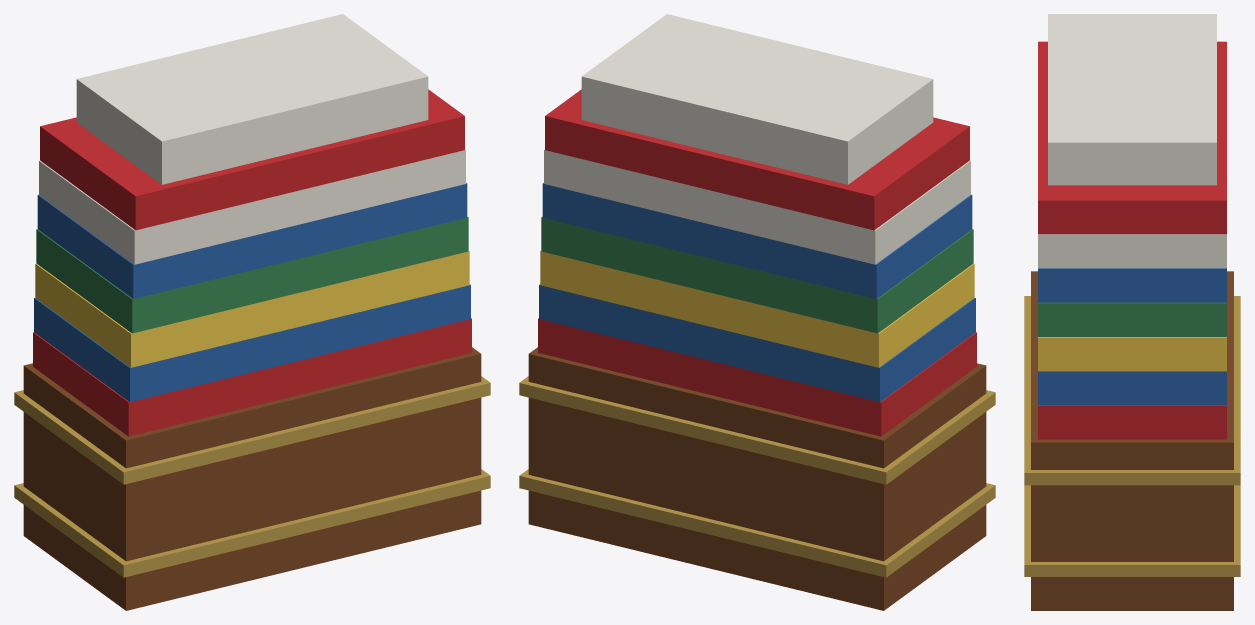
The model's file is Interior_Juk.obj.
The picture shows the model from 3 angles, left to right: view 1: azimuth 30°, elevation 25°; view 2: azimuth 150°, elevation 25°; view 3: azimuth 270°, elevation 25°; orthographic projection.
Parts seen in each view (by area): view 1: Interior_Juk; view 2: Interior_Juk; view 3: Interior_Juk.
Part boxes in pixels (<box>): Interior_Juk: <box>14,14,490,610</box>; Interior_Juk: <box>519,14,995,610</box>; Interior_Juk: <box>1024,14,1240,610</box>.
Size of the model in its own units: 1.24 by 1.46 by 0.64.
